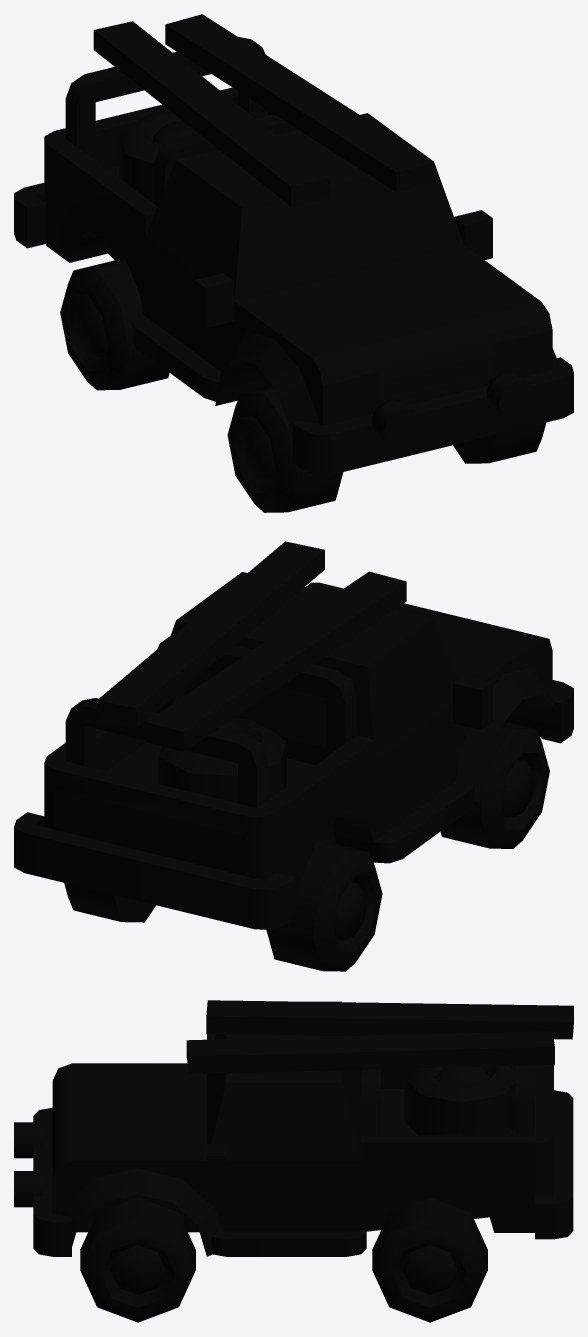
File: vehicle-truck-green.glb
3 views of the same model, one above another, from view 1: azimuth 30°, elevation 25°; view 2: azimuth 150°, elevation 25°; view 3: azimuth 270°, elevation 25° (orthographic). The views are drawn at different scales.
Parts seen in each view (by area): view 1: body, wheel-back-right, wheel-front-right, wheel-front-left; view 2: body, wheel-back-right, wheel-front-right, wheel-back-left; view 3: body, wheel-back-left, wheel-front-left.
Part boxes in pixels (x1,y1,x2,y2): body: [14, 14, 573, 475]; wheel-back-right: [60, 258, 169, 390]; wheel-front-right: [227, 385, 343, 512]; wheel-front-left: [453, 422, 546, 463]; body: [14, 541, 573, 929]; wheel-back-right: [266, 840, 382, 971]; wheel-front-right: [440, 721, 549, 848]; wheel-back-left: [64, 883, 155, 922]; body: [14, 1000, 573, 1256]; wheel-back-left: [372, 1197, 487, 1322]; wheel-front-left: [80, 1197, 195, 1322].
Size of the model in its own units: 1.5 by 1.4 by 2.9.
1 material, 1 textured.
